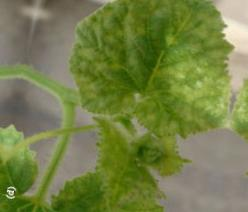Tomato leaf mosaic virus: (62, 0, 248, 142)
